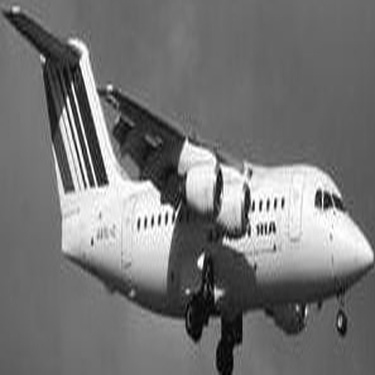airplane: (7, 7, 370, 370)
